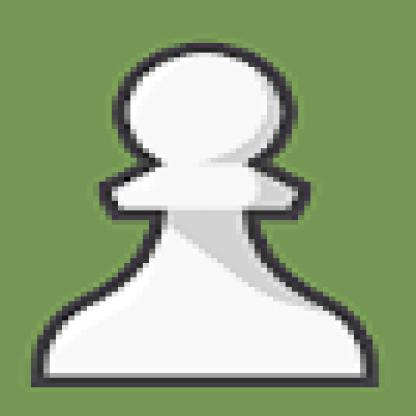White Pawn: (22, 29, 405, 400)
